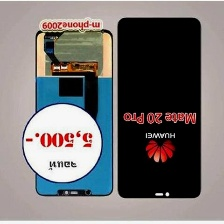phone: (114, 15, 206, 203), (32, 22, 116, 201)
